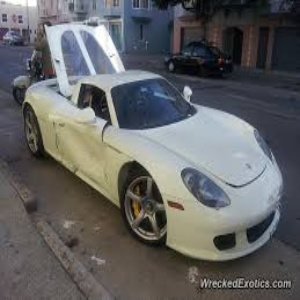door: (46, 115, 109, 186)
